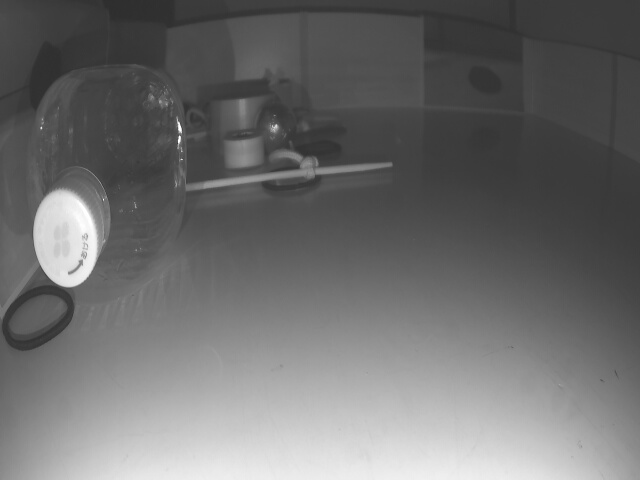Live: (259, 108, 293, 147)
